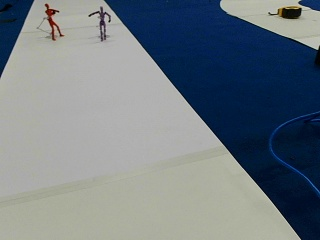pedestrian: (88, 5, 111, 40), (44, 2, 62, 39)
